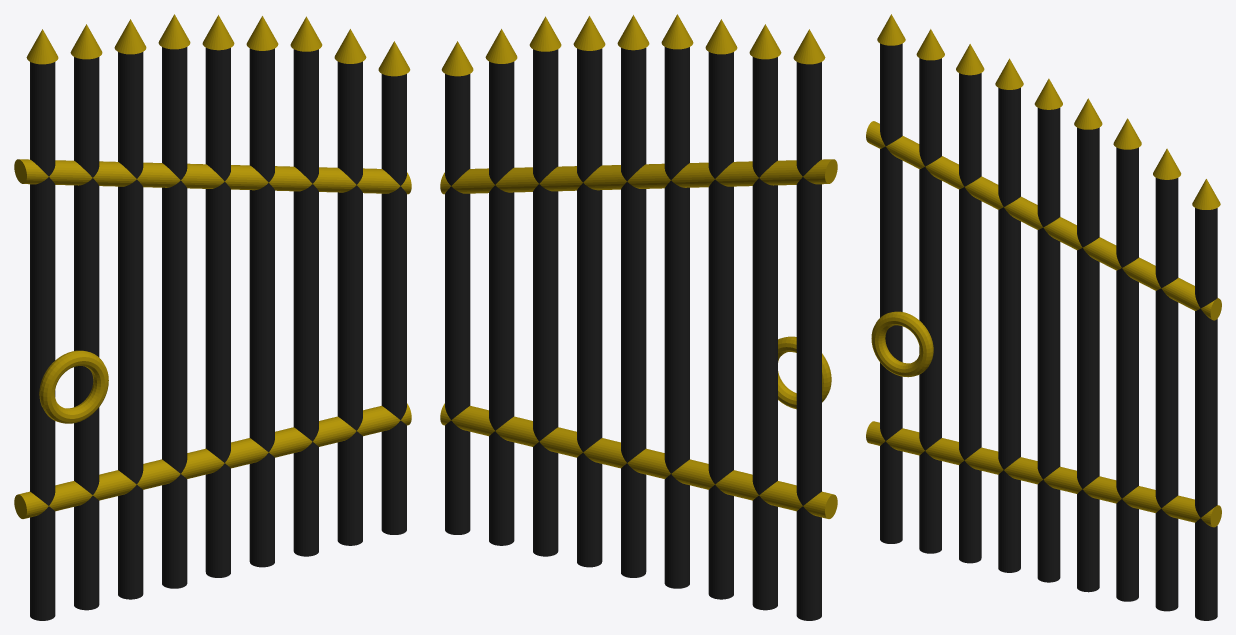
The model's file is parkGateR.fbx.
3 views of the same model, side by side, from view 1: azimuth 30°, elevation 25°; view 2: azimuth 150°, elevation 25°; view 3: azimuth 330°, elevation 25° (orthographic). The views are drawn at different scales.
Parts seen in each view (by area): view 1: Cube; view 2: Cube; view 3: Cube.
Part boxes in pixels (bbox=[...]): Cube: bbox=[14, 14, 411, 620]; Cube: bbox=[440, 14, 837, 620]; Cube: bbox=[866, 14, 1221, 620].
Bounding box in the file's own units: 352 × 510 × 33.63.
